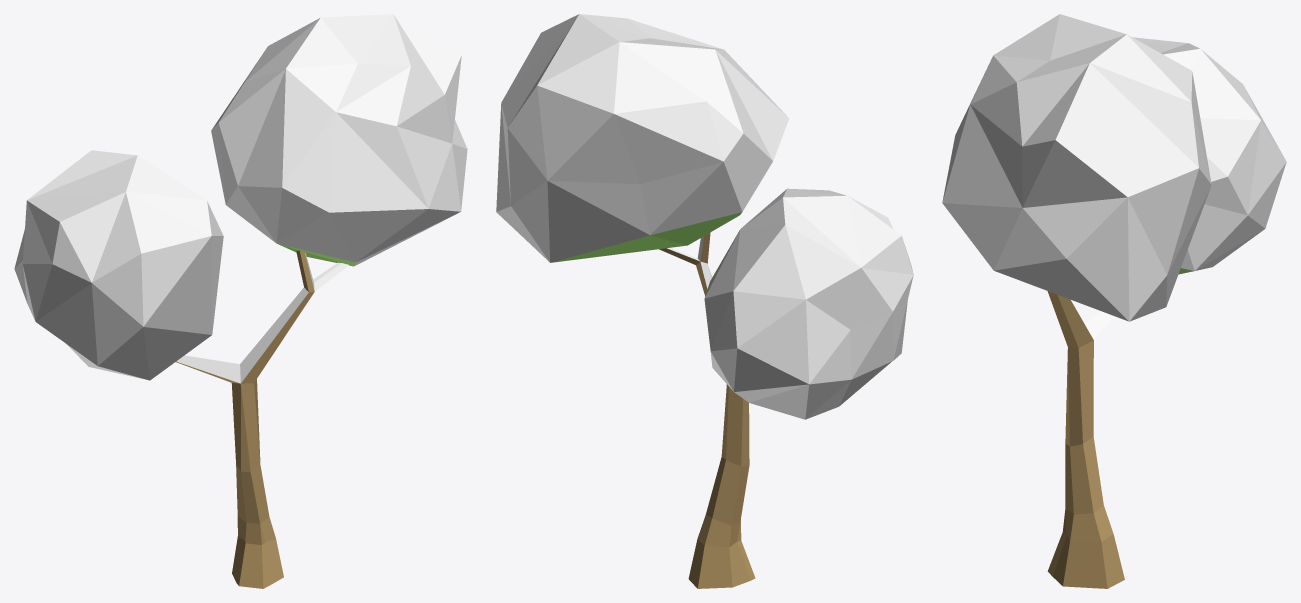
Rendered from Oak_Tree_l_Snow_BT_05.fbx.
3 views of the same model, side by side, from view 1: azimuth 30°, elevation 25°; view 2: azimuth 150°, elevation 25°; view 3: azimuth 270°, elevation 25° (orthographic). The views are drawn at different scales.
Parts seen in each view (by area): view 1: Oak_Tree_l_Snow_BT_05; view 2: Oak_Tree_l_Snow_BT_05; view 3: Oak_Tree_l_Snow_BT_05.
Part boxes in pixels (x1,y1,x2,y2): Oak_Tree_l_Snow_BT_05: [14, 14, 467, 588]; Oak_Tree_l_Snow_BT_05: [496, 14, 913, 588]; Oak_Tree_l_Snow_BT_05: [942, 14, 1286, 588].
Size of the model in its own units: 889 by 1101 by 583.
